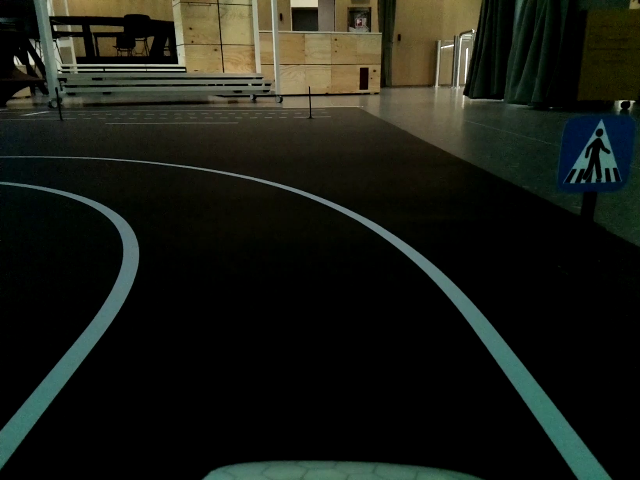pedestrians: (559, 119, 625, 191)
